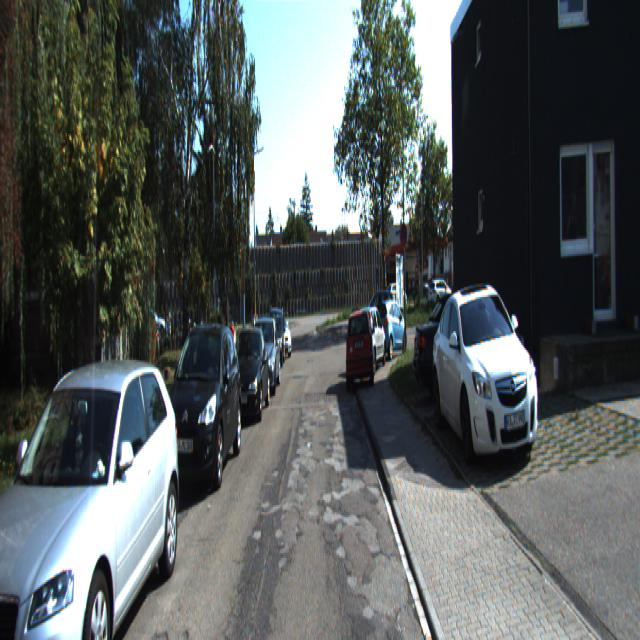Car: (0, 353, 185, 639), (432, 276, 548, 469), (158, 318, 243, 499), (414, 279, 528, 402), (227, 321, 271, 427), (247, 315, 282, 398), (344, 303, 376, 393), (353, 306, 388, 377), (372, 296, 408, 363)
